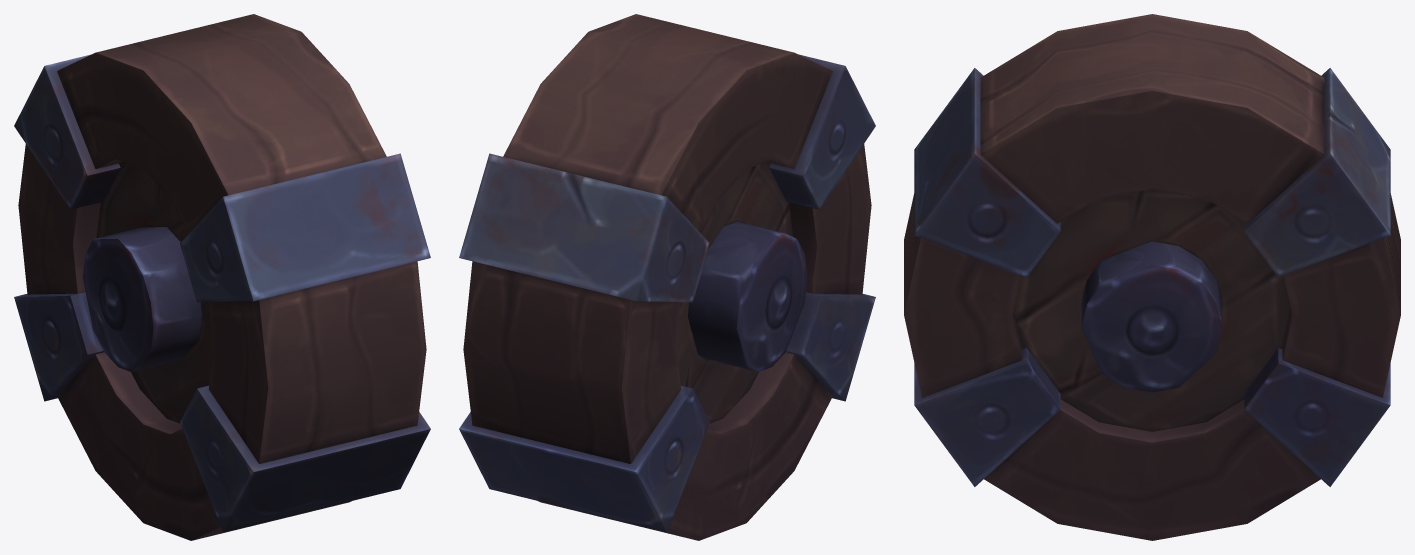
File: wm_wheel_wooden.fbx
The picture shows the model from 3 angles, left to right: view 1: azimuth 30°, elevation 25°; view 2: azimuth 150°, elevation 25°; view 3: azimuth 270°, elevation 25°; orthographic projection.
Parts seen in each view (by area): view 1: wm_wheel_wooden; view 2: wm_wheel_wooden; view 3: wm_wheel_wooden.
Part boxes in pixels (x1,y1,x2,y2): wm_wheel_wooden: (14,14,430,540); wm_wheel_wooden: (459,14,875,540); wm_wheel_wooden: (904,14,1400,540).
Bounding box in the file's own units: 0.4305 × 0.8087 × 0.8087.
